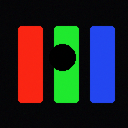2 circle: (49, 44, 75, 70)
